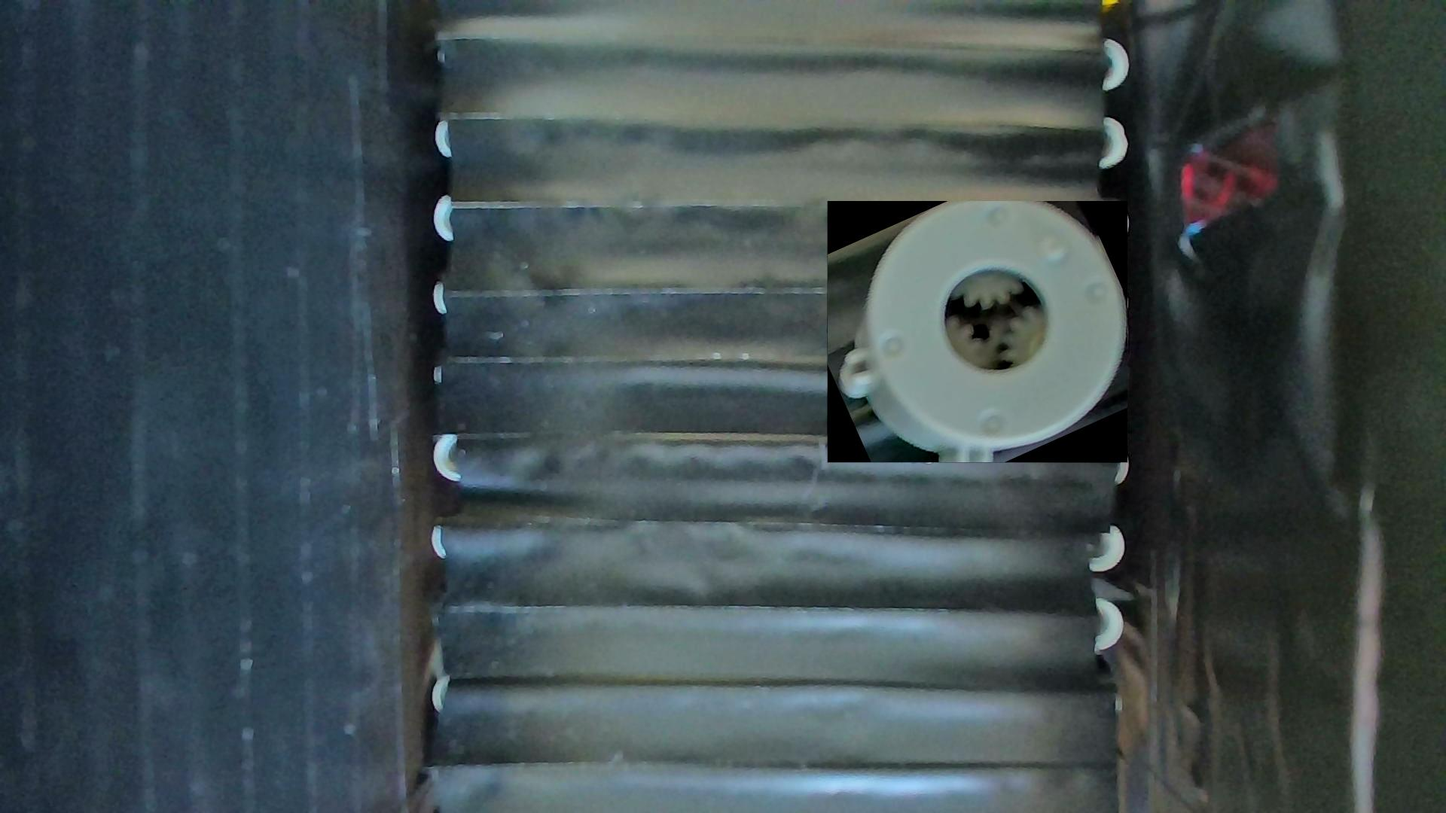cartridge: (826, 202, 1127, 464)
